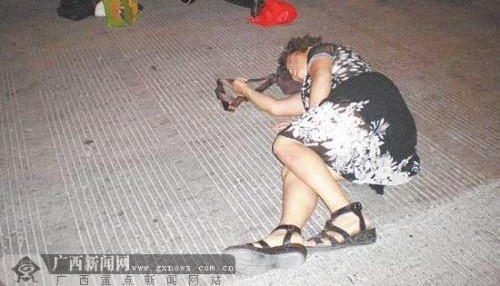falling: (212, 29, 433, 277)
